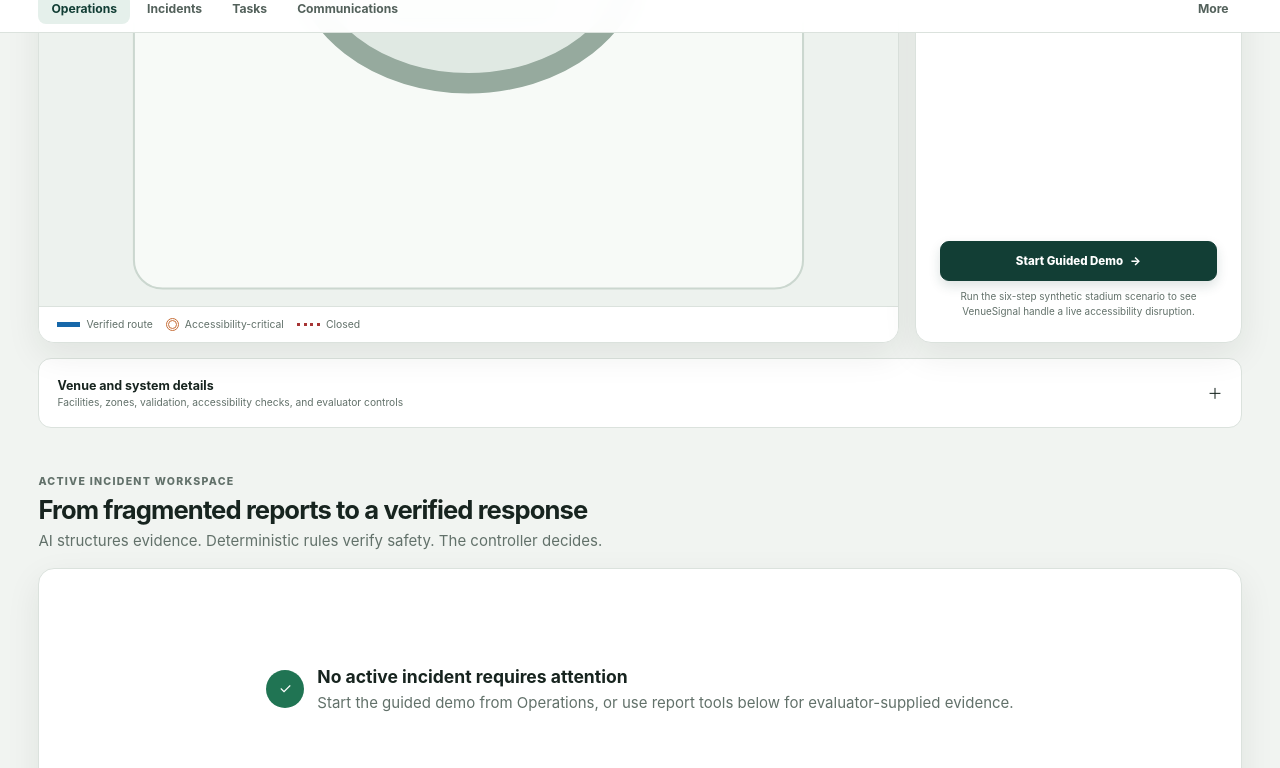
Scenario: VenueSignal frontend experience › applies real scenario state and presents a no-route containment response
(page scrolled)
Click the text "Venue and system details". click: (136,386)
box: x1=57 y1=378 x2=214 y2=393
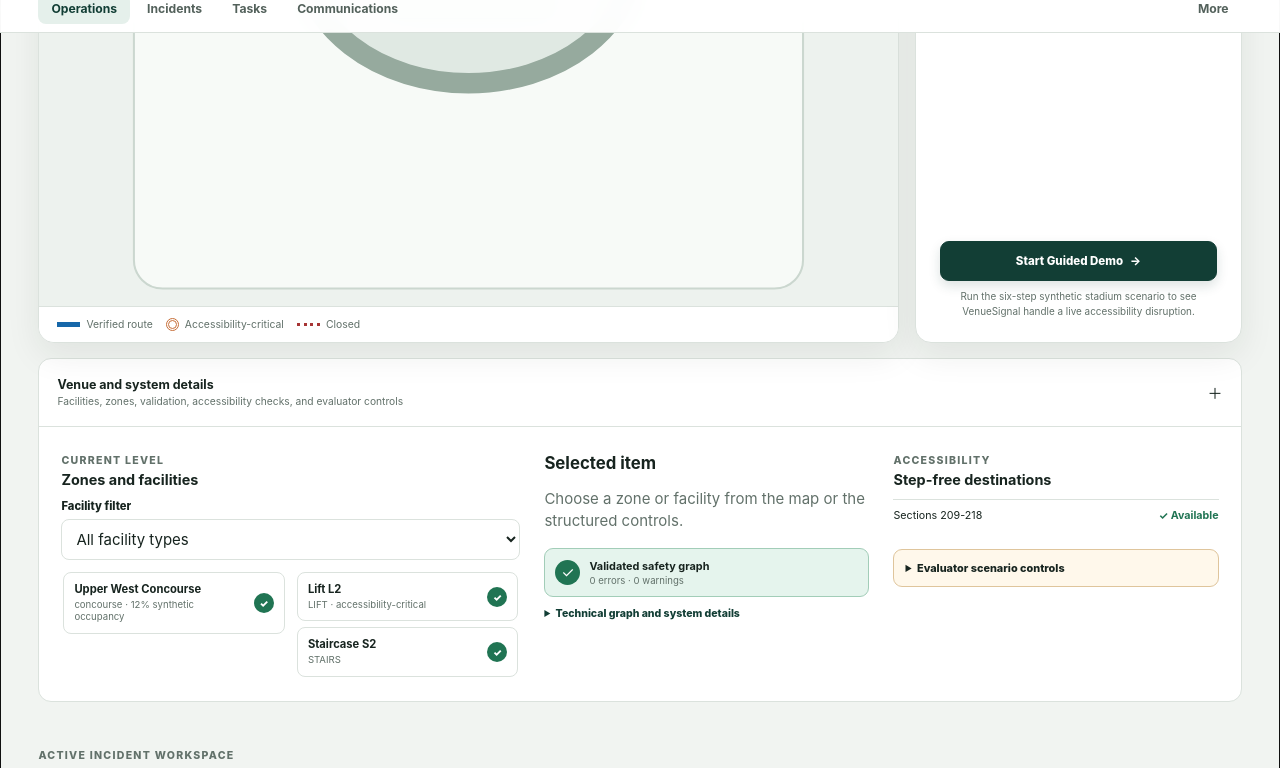
Click the heading "Evaluator scenario controls". click: (991,568)
box: x1=917 y1=561 x2=1065 y2=575
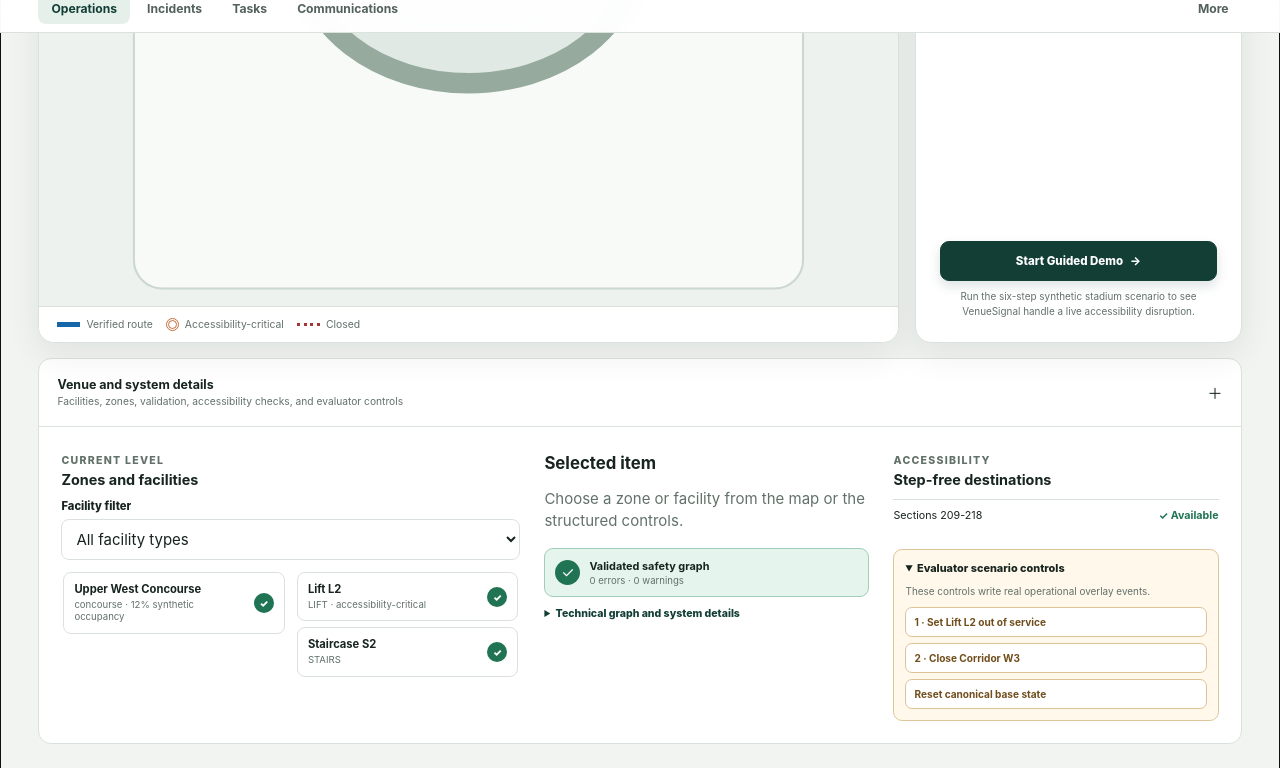
Click the button "2 · Close Corridor W3". click: (967,658)
box: x1=906 y1=643 x2=1207 y2=673
(page scrolled)
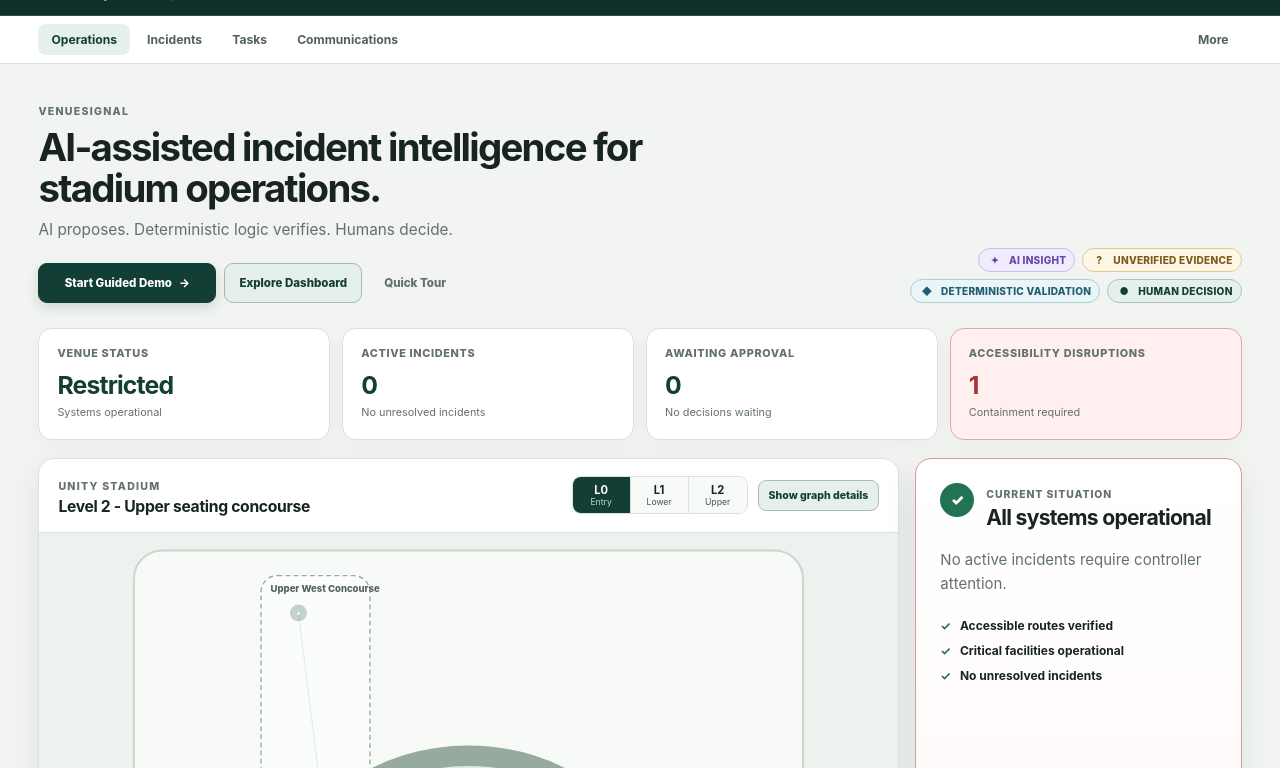
Check: the text "Containment required" is shown, box x1=969 y1=405 x2=1080 y2=419
Check: the text "Restricted" is shown, box x1=57 y1=370 x2=173 y2=400
